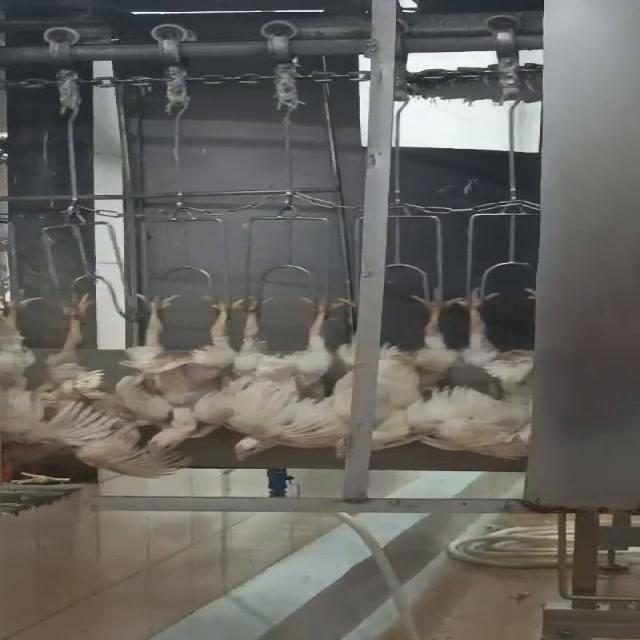chicken: (229, 294, 360, 462), (132, 295, 250, 457), (361, 286, 451, 456), (455, 282, 539, 461), (0, 292, 59, 458), (57, 295, 123, 436)
